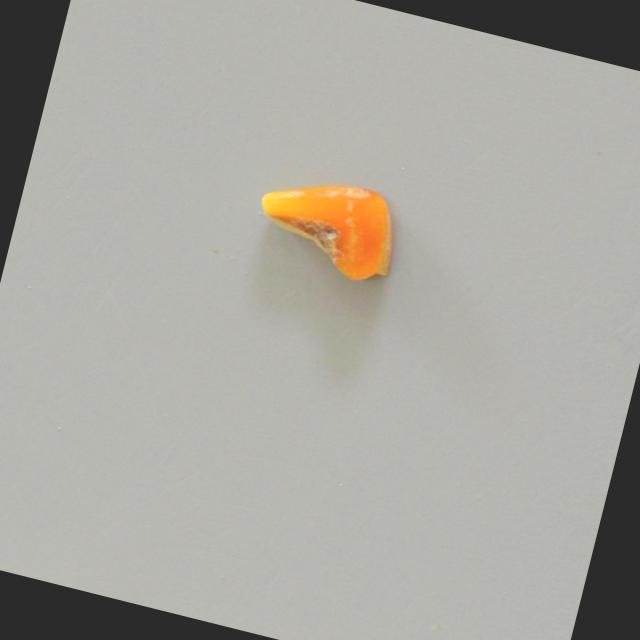dañado: (242, 157, 412, 292)
